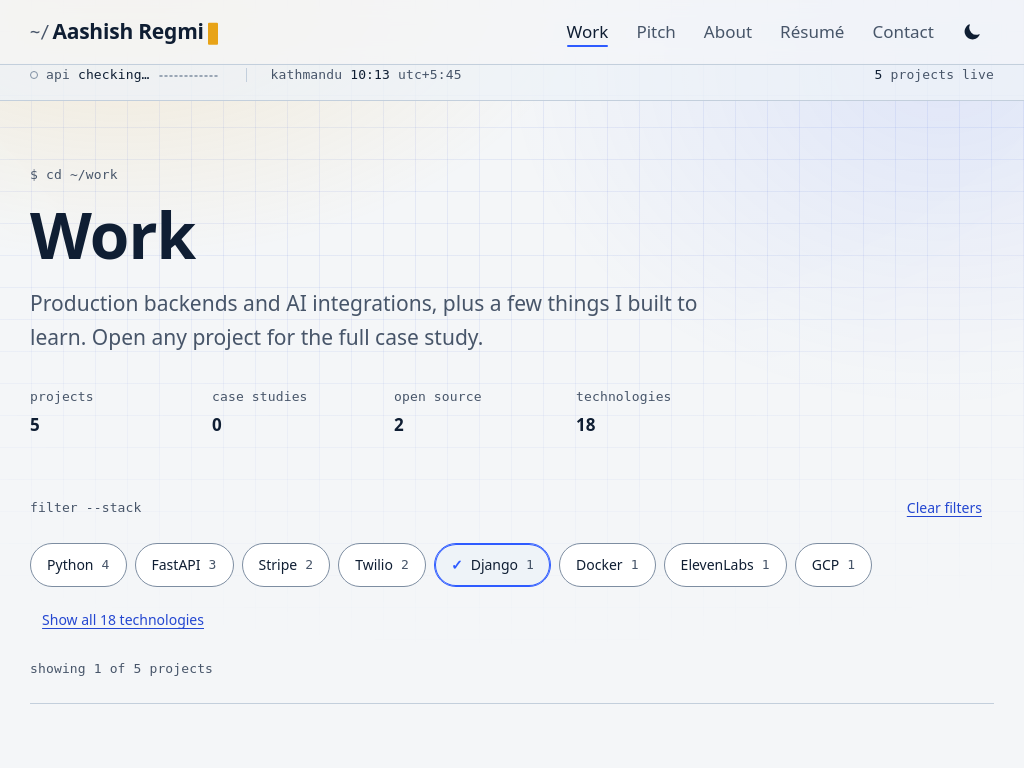
Scenario: /work filters › clears every filter
Click the button "Clear filters": (944, 509) x1=895 y1=487 x2=994 y2=531
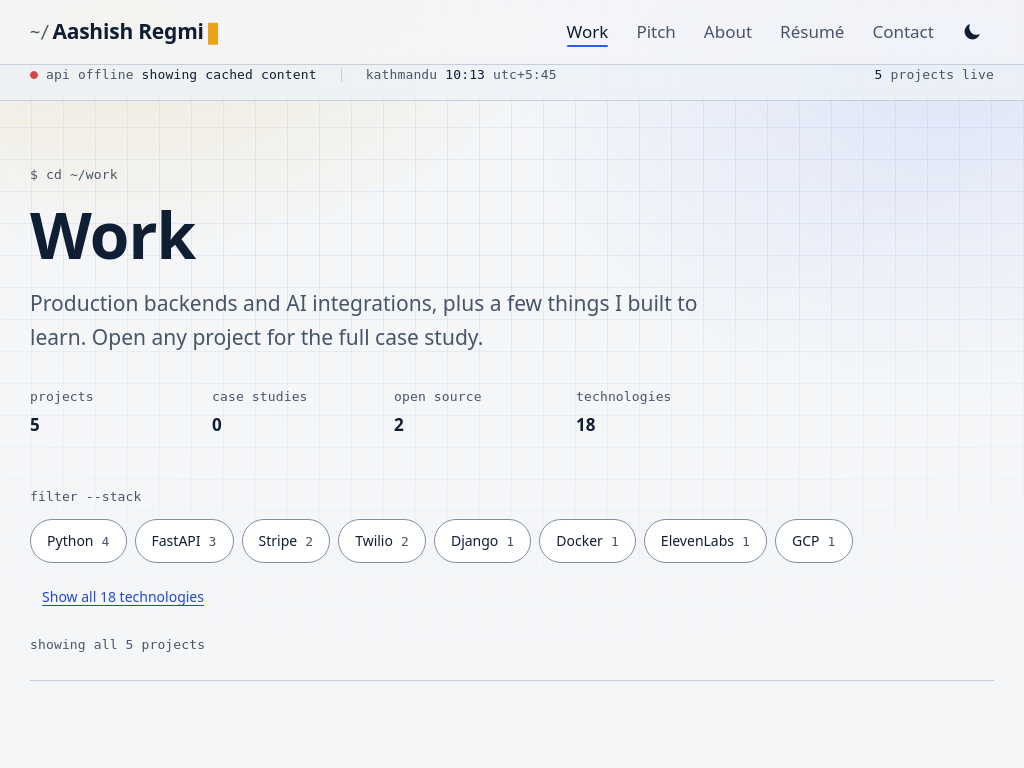
Now the button "Clear filters" is gone
